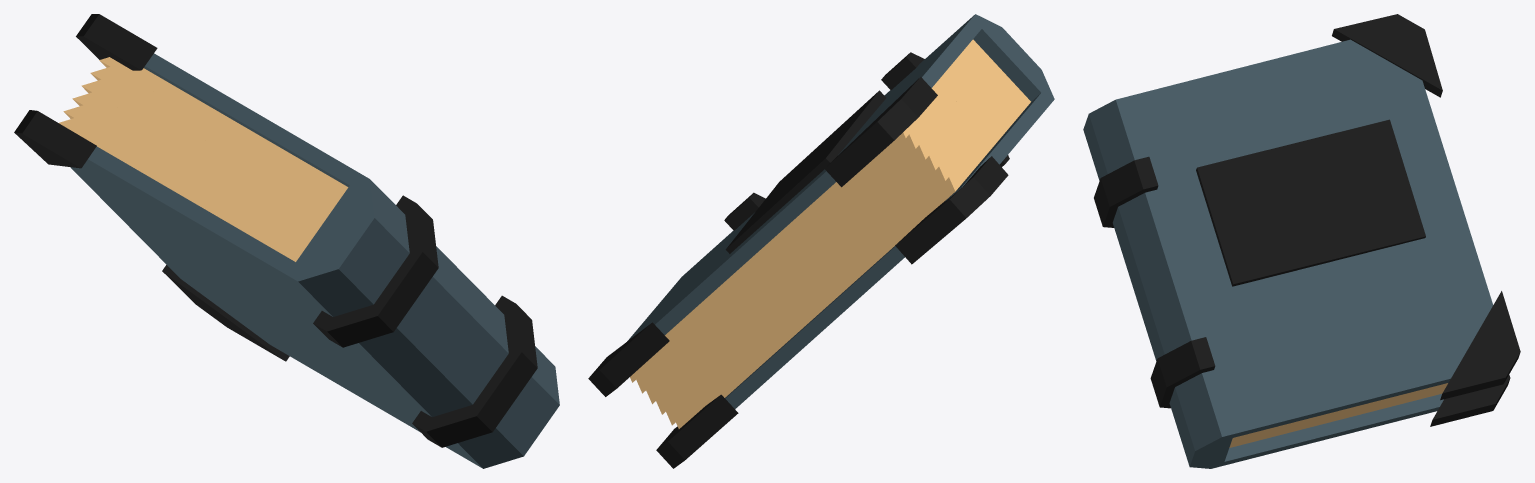
The model's file is Book.obj.
3 renders of one model, left to right at view 1: azimuth 30°, elevation 25°; view 2: azimuth 150°, elevation 25°; view 3: azimuth 270°, elevation 25°, orthographic. The views are drawn at different scales.
Visible parts, largest first — view 1: group449164403; view 2: group449164403; view 3: group449164403.
Part boxes in pixels (left/top/right/bottom): group449164403: left=14, top=14, right=559, bottom=468; group449164403: left=588, top=14, right=1054, bottom=468; group449164403: left=1083, top=14, right=1520, bottom=468.
Size of the model in its own units: 0.3173 by 0.3044 by 0.3449.
